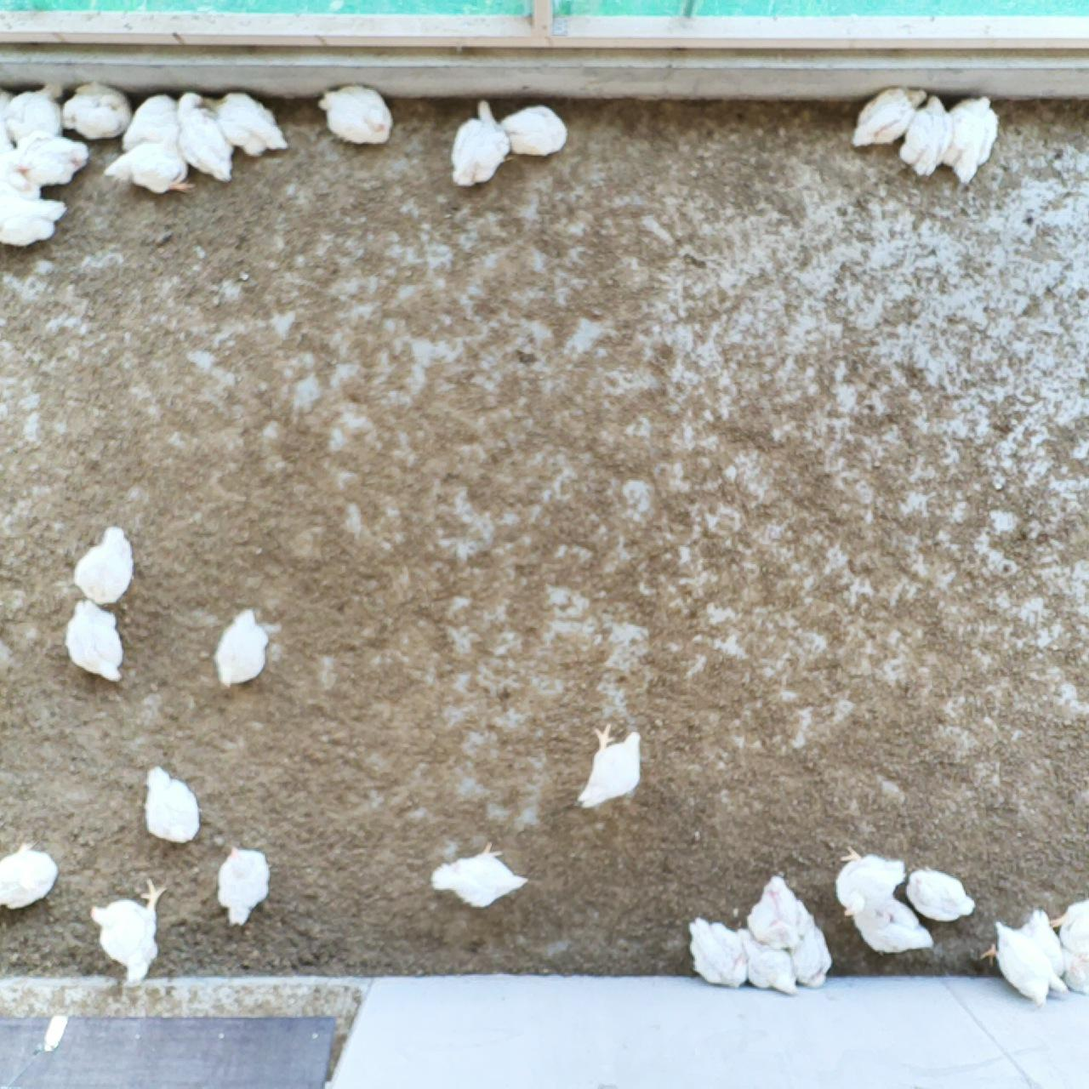chicken: (87, 874, 170, 984), (427, 838, 532, 912), (99, 120, 198, 198), (573, 720, 646, 816), (202, 90, 289, 162), (173, 89, 237, 186), (447, 99, 514, 189), (63, 597, 127, 688), (71, 521, 135, 611), (831, 843, 908, 917), (316, 80, 396, 151), (941, 93, 1001, 186), (213, 841, 275, 930), (212, 605, 273, 694), (1018, 907, 1076, 1000), (849, 86, 929, 153), (139, 762, 203, 845), (684, 913, 749, 991), (850, 897, 936, 955), (896, 94, 954, 180), (735, 924, 800, 1000), (902, 862, 978, 925), (746, 873, 808, 949), (60, 79, 134, 142), (0, 839, 61, 911), (117, 91, 184, 154), (4, 80, 66, 148), (501, 104, 569, 159), (0, 196, 69, 250), (21, 138, 90, 188), (791, 926, 834, 991), (1047, 898, 1089, 957), (1054, 943, 1089, 998), (3, 119, 56, 150), (0, 174, 43, 202), (0, 150, 30, 176)
